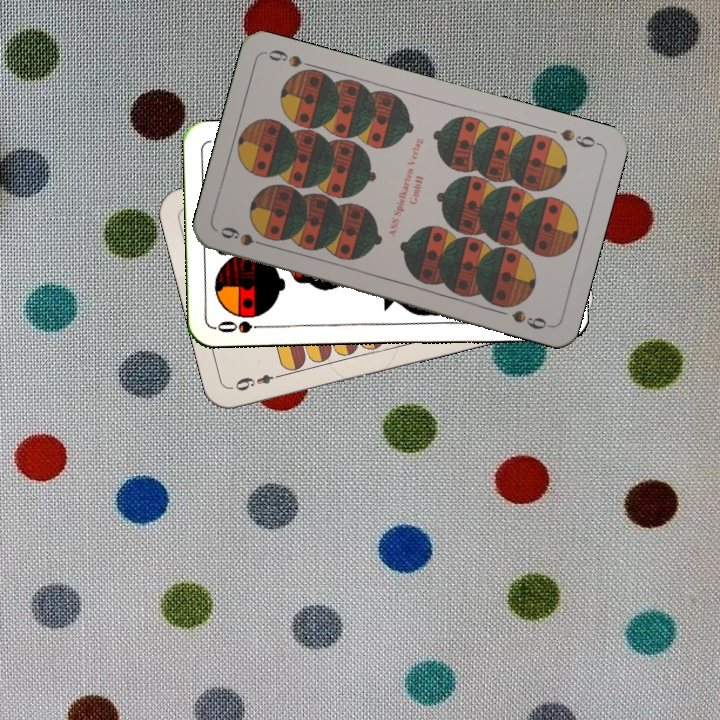E9: (231, 369, 287, 394)
S9: (216, 222, 274, 250), (556, 125, 603, 151)
SO: (213, 316, 272, 336)
